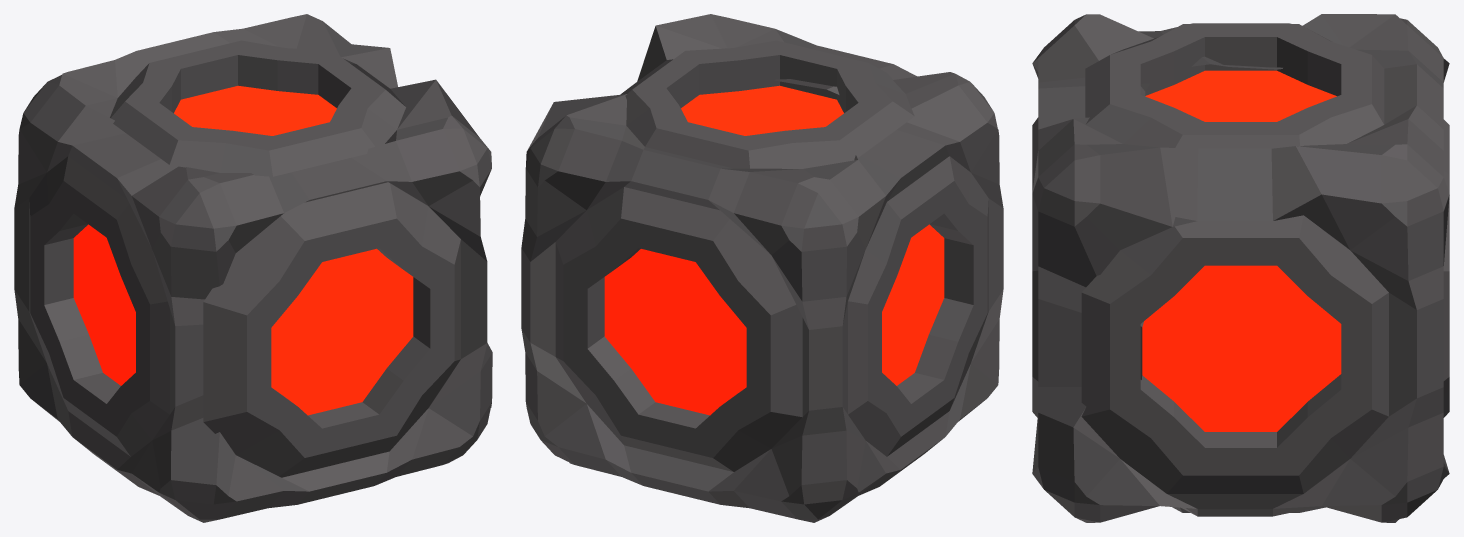
The model's file is Spawn.fbx.
3 views of the same model, side by side, from view 1: azimuth 30°, elevation 25°; view 2: azimuth 150°, elevation 25°; view 3: azimuth 270°, elevation 25° (orthographic). The views are drawn at different scales.
Parts seen in each view (by area): view 1: Cube, Cube.001; view 2: Cube, Cube.001; view 3: Cube, Cube.001.
Part boxes in pixels (x1,y1,x2,y2): Cube: [14, 14, 492, 522]; Cube.001: [73, 85, 413, 415]; Cube: [521, 14, 1003, 522]; Cube.001: [604, 85, 944, 415]; Cube: [1032, 14, 1449, 522]; Cube.001: [1142, 70, 1341, 431].
Size of the model in its own units: 506 by 507 by 496.
